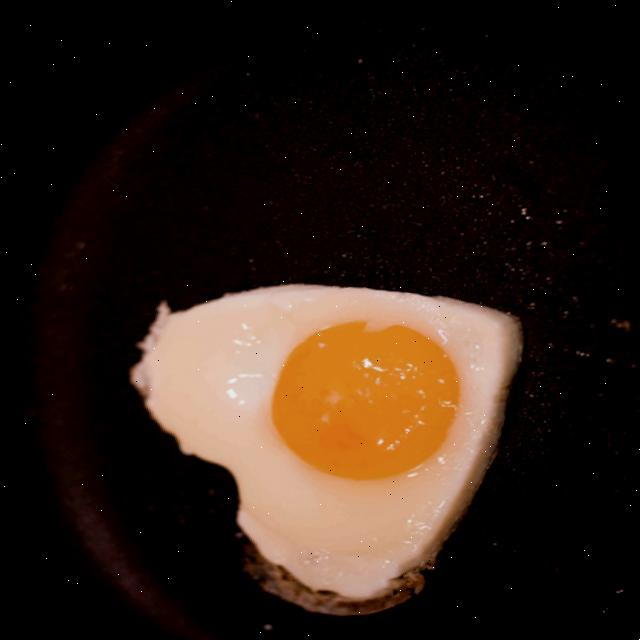鸡蛋料理: (119, 211, 574, 640)
